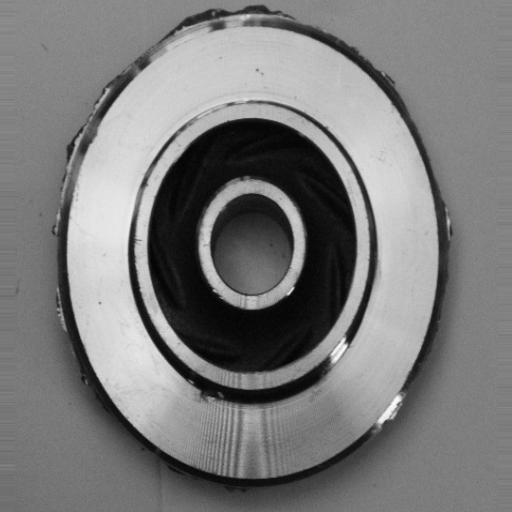casting_with_burr: (50, 1, 455, 496)
crack: (187, 374, 242, 411)
scratch: (184, 94, 262, 128), (322, 325, 360, 379)
